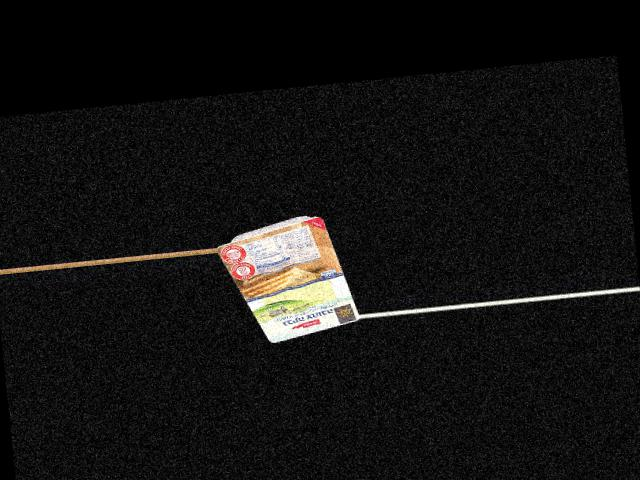cheese: (235, 215, 349, 344)
